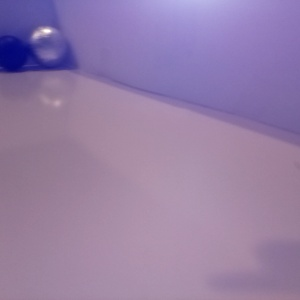dead_ball: (1, 97, 108, 224)
